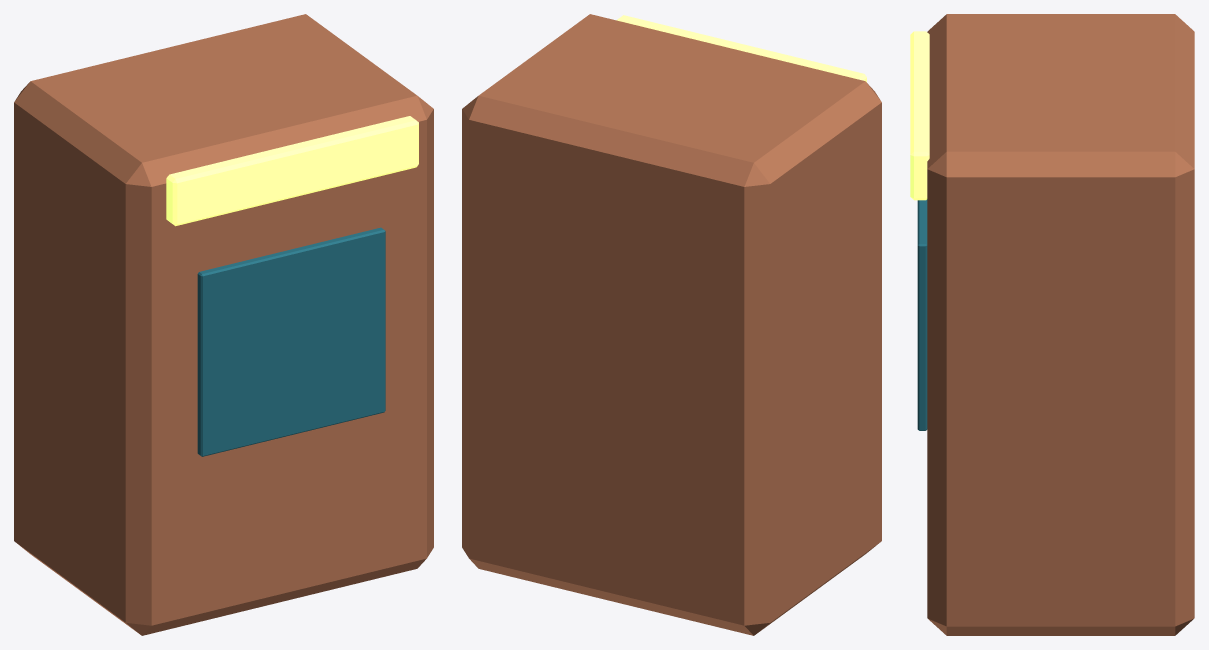
File: street_010_seed100.glb
The picture shows the model from 3 angles, left to right: view 1: azimuth 30°, elevation 25°; view 2: azimuth 150°, elevation 25°; view 3: azimuth 270°, elevation 25°; orthographic projection. The views are drawn at different scales.
Parts seen in each view (by area): view 1: street_010_seed100; view 2: street_010_seed100; view 3: street_010_seed100.
Part boxes in pixels (box(x1,y1,x2,y2)): street_010_seed100: box(14, 14, 433, 635); street_010_seed100: box(462, 14, 881, 635); street_010_seed100: box(910, 14, 1194, 635).
Size of the model in its own units: 1.5 by 2.2 by 1.17.
